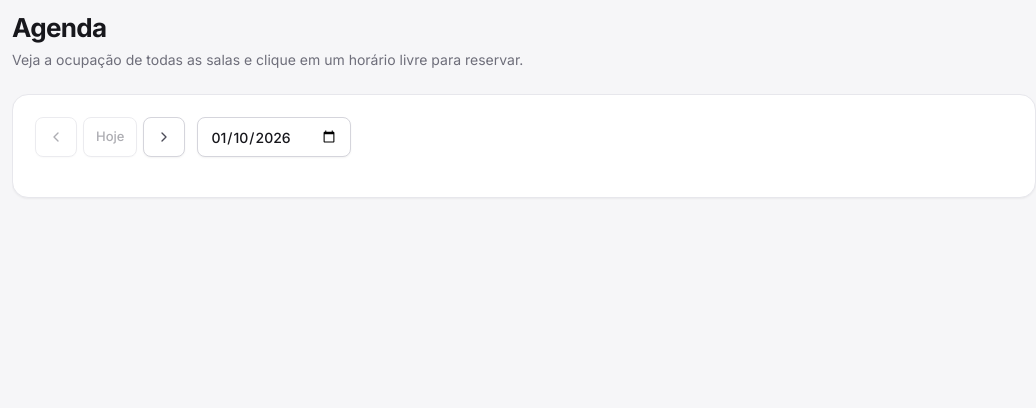
Agenda › ignora a resposta atrasada de uma data que o usuário já trocou
This screenshot has width=1036, height=408.
Click the button named "Próximo dia" at [164, 137], box [144,117,186,157]
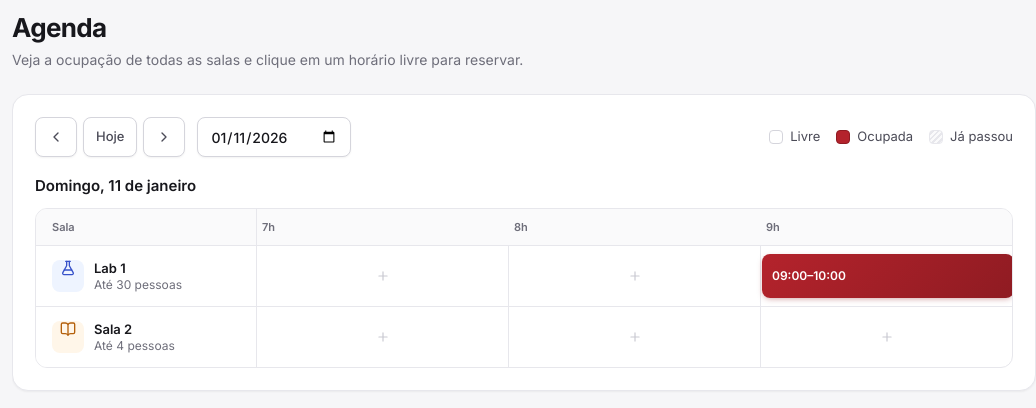
Expected: the text "Domingo, 11 de janeiro" is shown, [35,176,196,195]
